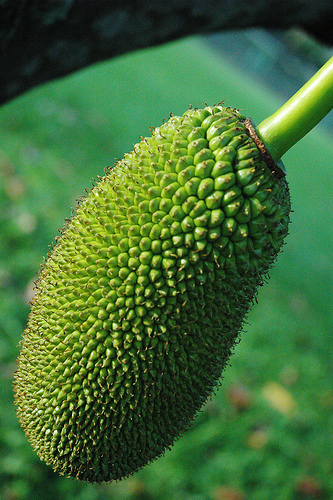jackfruit: (13, 102, 295, 487)
